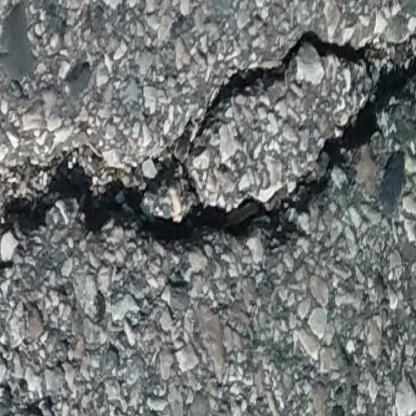Cracks: (0, 24, 416, 287)
